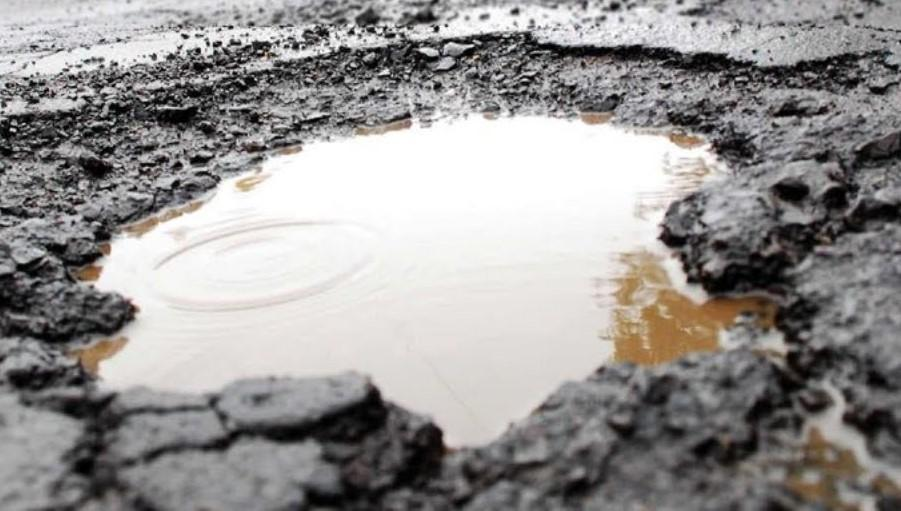pothole: (10, 35, 841, 488)
